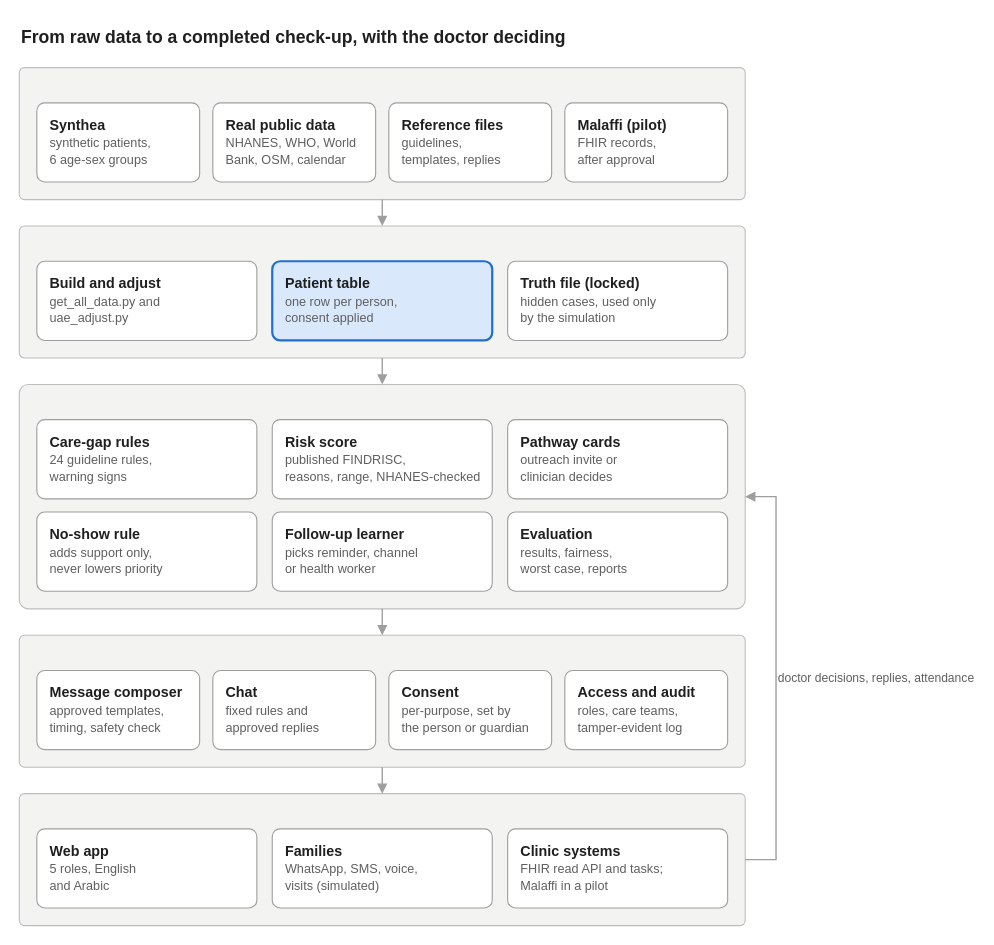
Some shapes in this 994 by 945 pixel diagram are drawn without their labels. Here are the shapes that lost their labels. From the top down, the box of each, then its label:
(18, 67, 745, 200): 1. Sources
(18, 225, 745, 358): 2. Data
(18, 383, 745, 609): 3. Decisions, run daily by the orchestrator
(18, 634, 745, 767): 4. Engagement and safety
(18, 793, 745, 926): 5. People and systems
